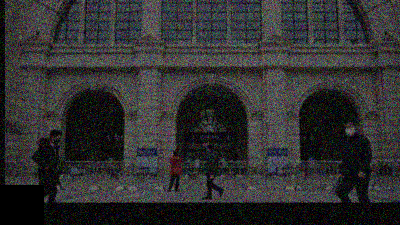with_mask: (344, 123, 357, 136), (53, 135, 62, 145)
